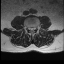CCS_normal: (31, 25, 32, 33)
LFS_normal: (34, 25, 36, 31)
LLS_normal: (32, 25, 34, 32)
RFS_normal: (27, 25, 29, 31)
RLS_normal: (29, 25, 31, 32)
